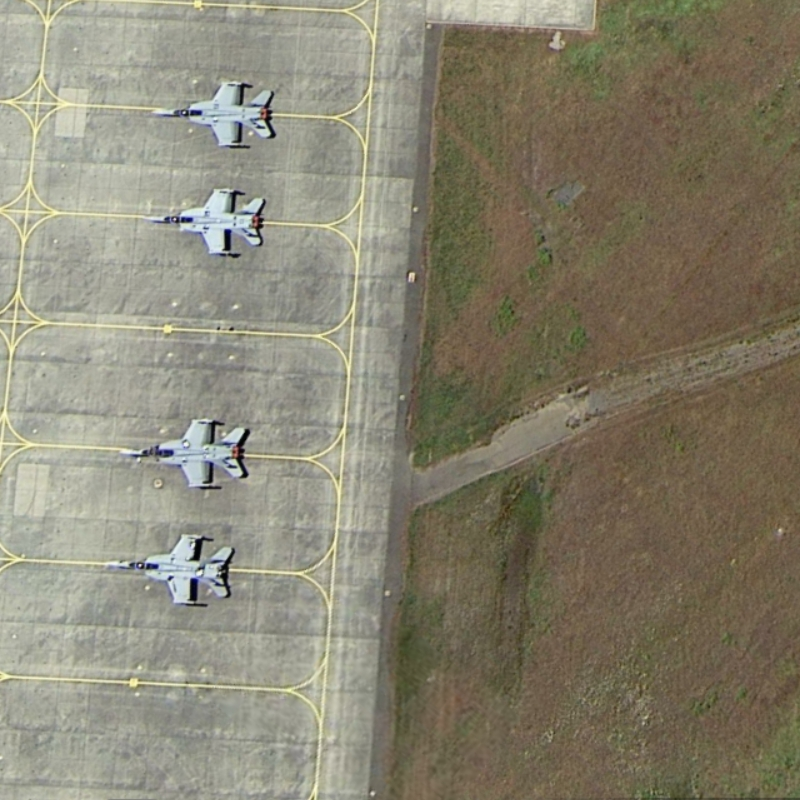A16: (117, 405, 254, 499), (101, 526, 239, 619), (135, 183, 276, 267), (142, 72, 281, 155)
